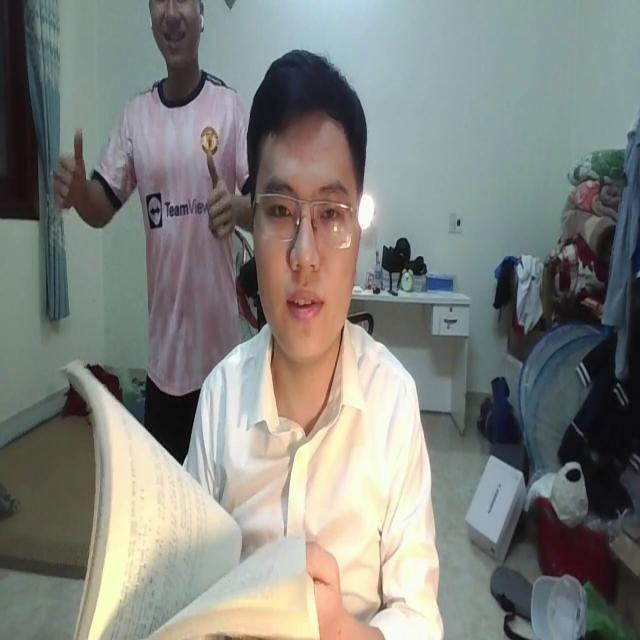book: (61, 348, 314, 640)
extra_person: (47, 0, 256, 431)
student: (178, 46, 443, 640)
